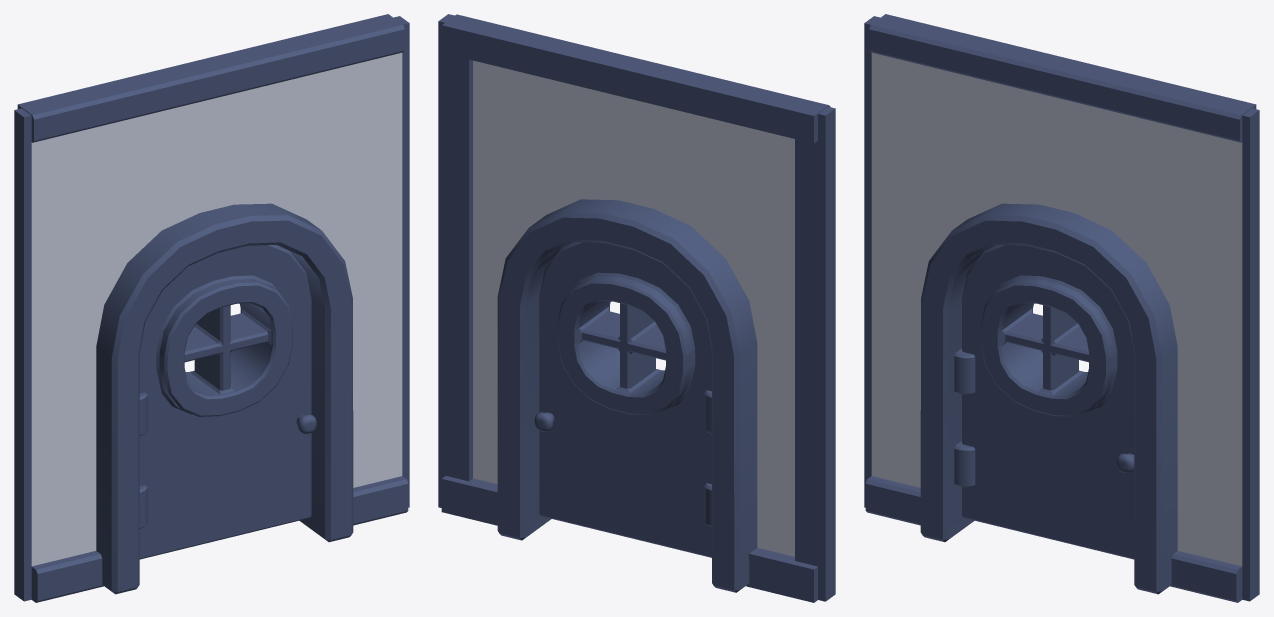
The model's file is wall_03.fbx.
The picture shows the model from 3 angles, left to right: view 1: azimuth 30°, elevation 25°; view 2: azimuth 150°, elevation 25°; view 3: azimuth 330°, elevation 25°; orthographic projection.
Visible parts, largest first — view 1: wall_white_3, door_wall_3, Plane.003, top_column_wall_3, lateral_colum_wall_3, bottom_colum_wall_3, Cube; view 2: wall_white_3, door_wall_3, Plane.003, lateral_colum_wall_3, top_column_wall_3, bottom_colum_wall_3, Cube; view 3: wall_white_3, door_wall_3, Plane.003, top_column_wall_3, lateral_colum_wall_3, bottom_colum_wall_3, Cube.
Part boxes in pixels (x1,y1,x2,y2): wall_white_3: [31, 52, 402, 566]; door_wall_3: [139, 244, 311, 559]; Plane.003: [96, 203, 353, 594]; top_column_wall_3: [17, 14, 404, 142]; lateral_colum_wall_3: [14, 16, 409, 601]; bottom_colum_wall_3: [31, 476, 408, 602]; Cube: [139, 392, 147, 528]; wall_white_3: [473, 60, 794, 556]; door_wall_3: [539, 242, 711, 557]; Plane.003: [497, 199, 757, 592]; lateral_colum_wall_3: [438, 14, 835, 601]; top_column_wall_3: [441, 14, 830, 143]; bottom_colum_wall_3: [441, 476, 817, 602]; Cube: [704, 390, 711, 526]; wall_white_3: [871, 52, 1242, 566]; door_wall_3: [962, 244, 1134, 559]; Plane.003: [920, 203, 1177, 594]; top_column_wall_3: [869, 14, 1256, 142]; lateral_colum_wall_3: [864, 16, 1259, 601]; bottom_colum_wall_3: [865, 476, 1242, 602]; Cube: [954, 348, 975, 487].
Bounding box in the file's own units: 208 × 250 × 40.
Materials: 1 (1 with a texture image).
